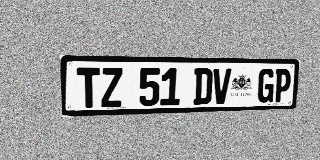1: (160, 68, 181, 106)
5: (139, 68, 160, 106)
D: (193, 68, 213, 105)
G: (257, 69, 275, 103)
P: (273, 69, 292, 102)
T: (77, 68, 100, 108)
V: (212, 68, 231, 104)
Z: (101, 68, 123, 107)
